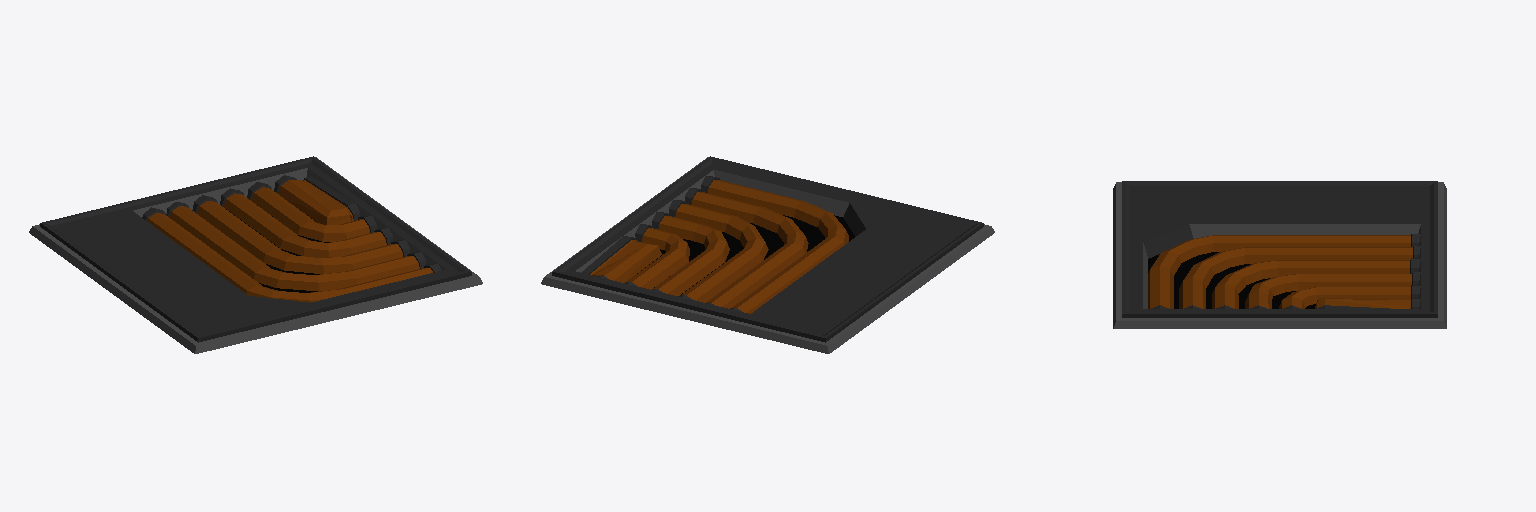
The model's file is RoofTile_InnerCorner_Pipes.obj.
3 renders of one model, left to right at view 1: azimuth 30°, elevation 25°; view 2: azimuth 150°, elevation 25°; view 3: azimuth 270°, elevation 25°, orthographic.
Parts seen in each view (by area): view 1: RoofTile_InnerCorner_Pipes_Plane.334; view 2: RoofTile_InnerCorner_Pipes_Plane.334; view 3: RoofTile_InnerCorner_Pipes_Plane.334.
Boxes of the visible parts, x1,y1,x2,y2 form: RoofTile_InnerCorner_Pipes_Plane.334: [29, 156, 482, 353]; RoofTile_InnerCorner_Pipes_Plane.334: [541, 156, 994, 353]; RoofTile_InnerCorner_Pipes_Plane.334: [1113, 181, 1446, 328].
Size of the model in its own units: 2 by 0.1147 by 2.